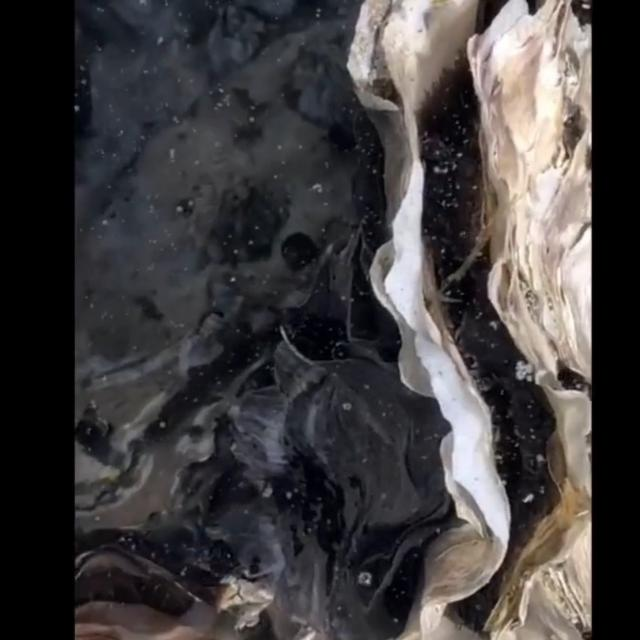Oyster-Open: (346, 0, 596, 640), (72, 29, 356, 514)
